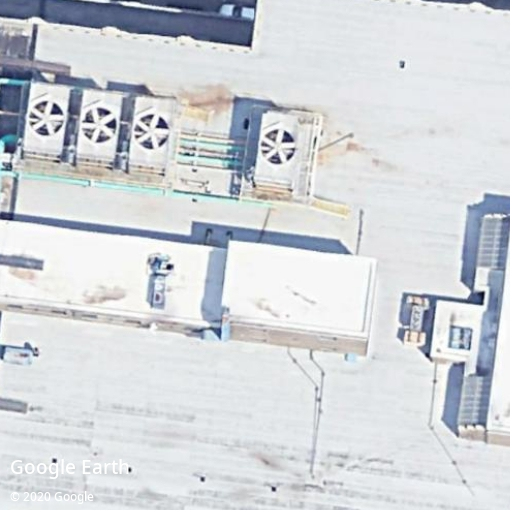Vent: (134, 114, 170, 150), (29, 101, 65, 136), (261, 129, 297, 164), (82, 108, 117, 142)
